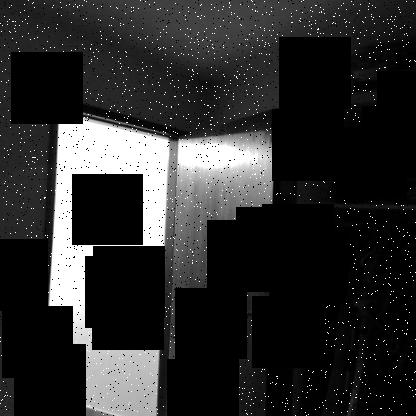Porte: (25, 94, 287, 415)
